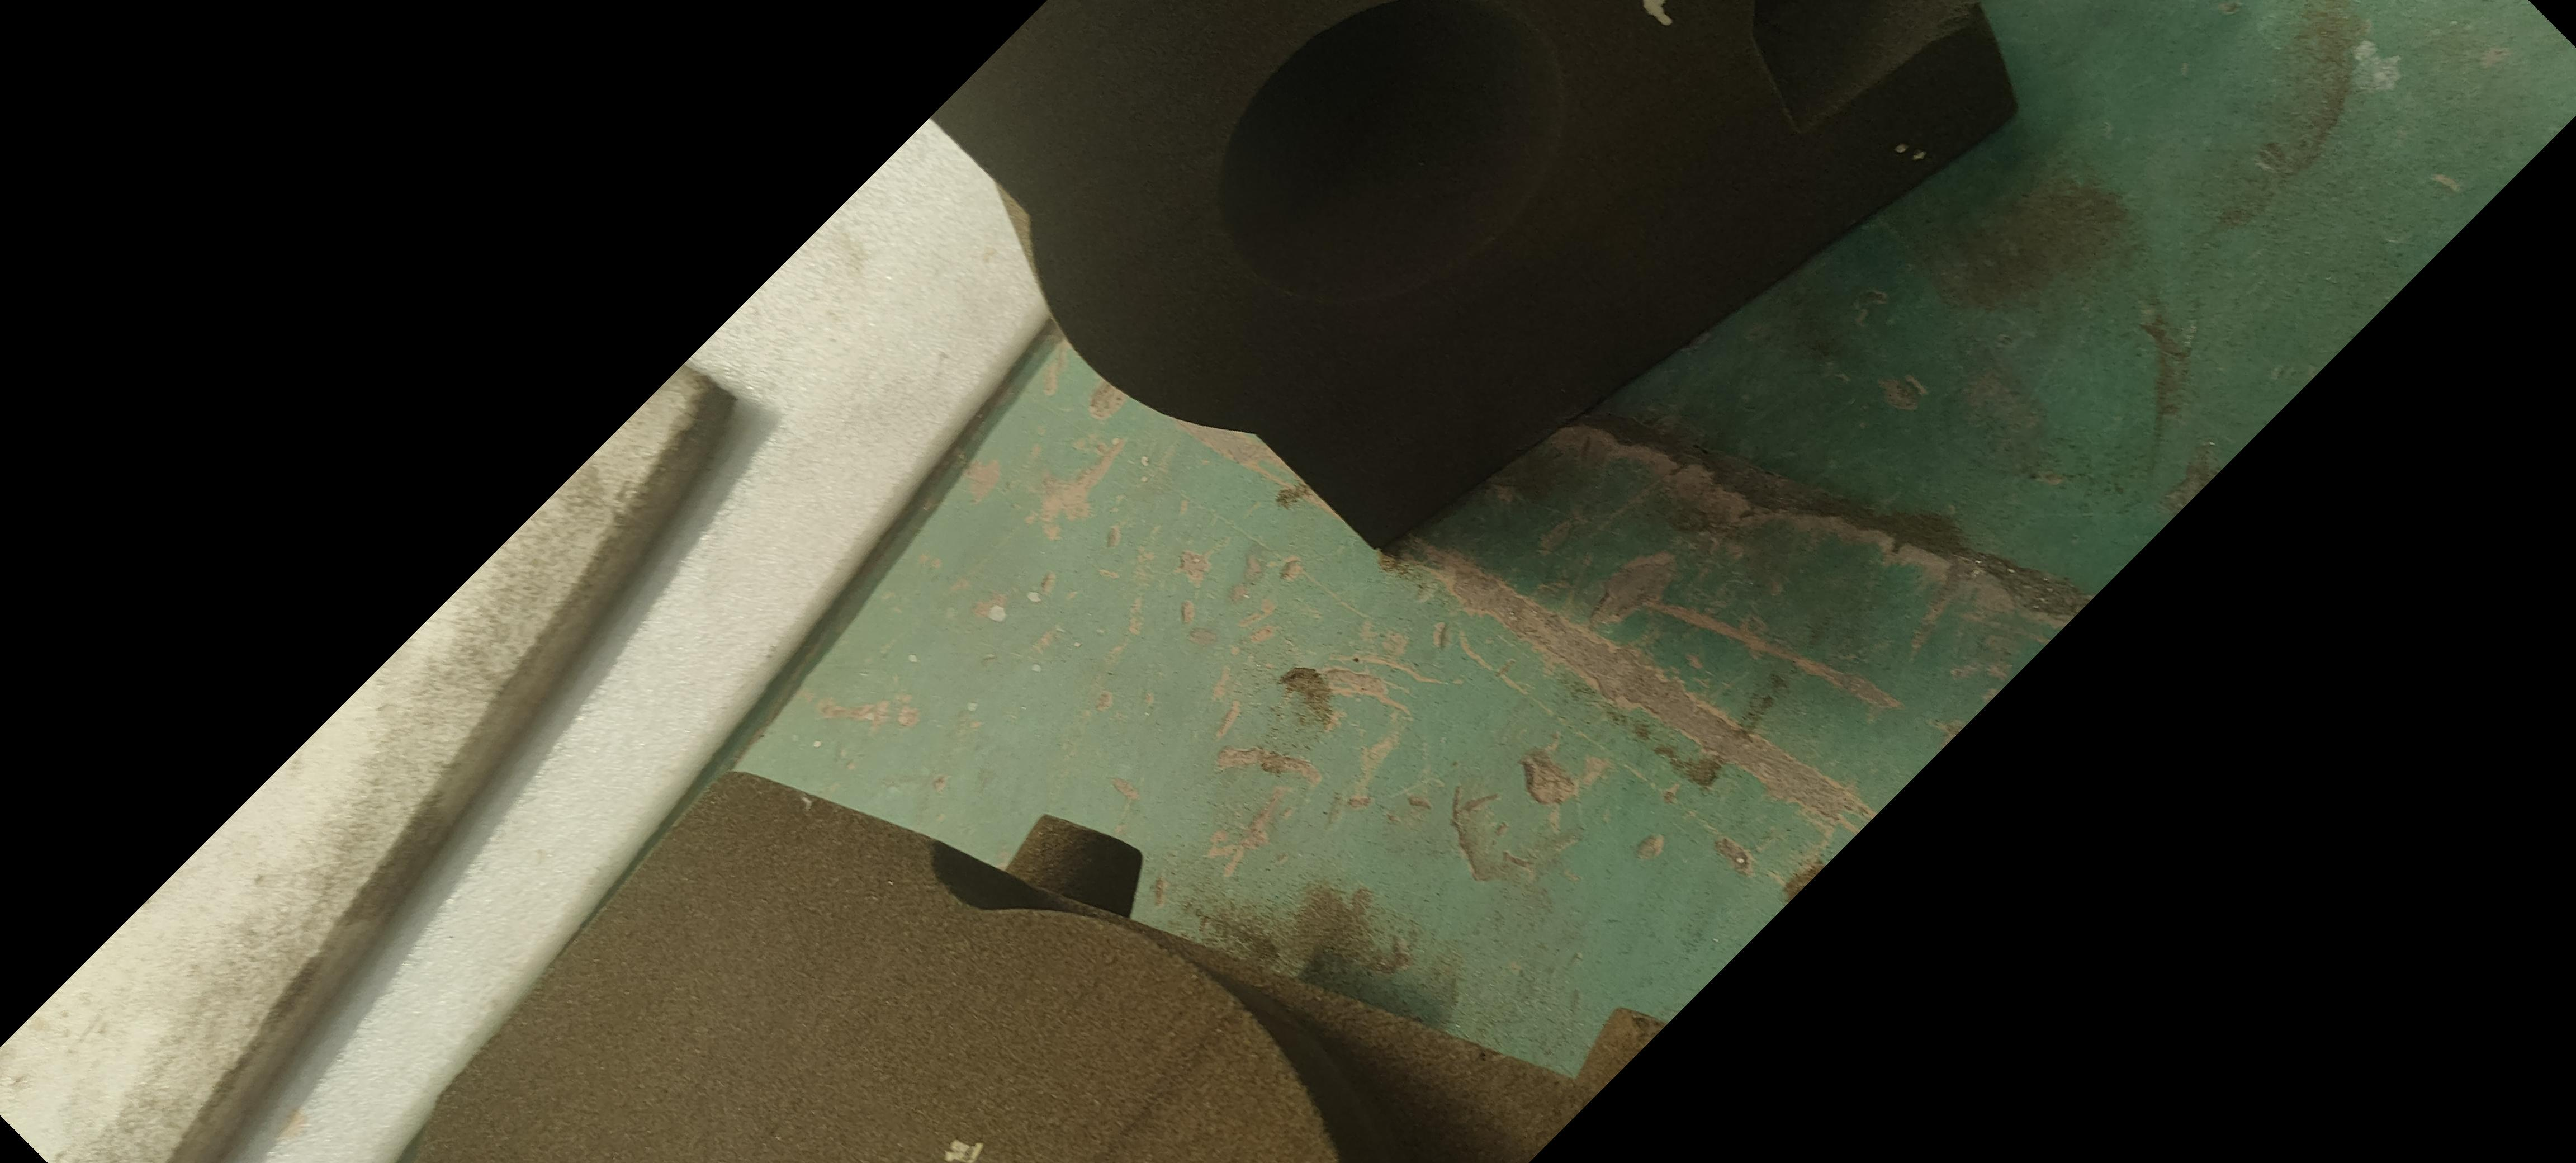pouring hole: (1212, 0, 1569, 302)
